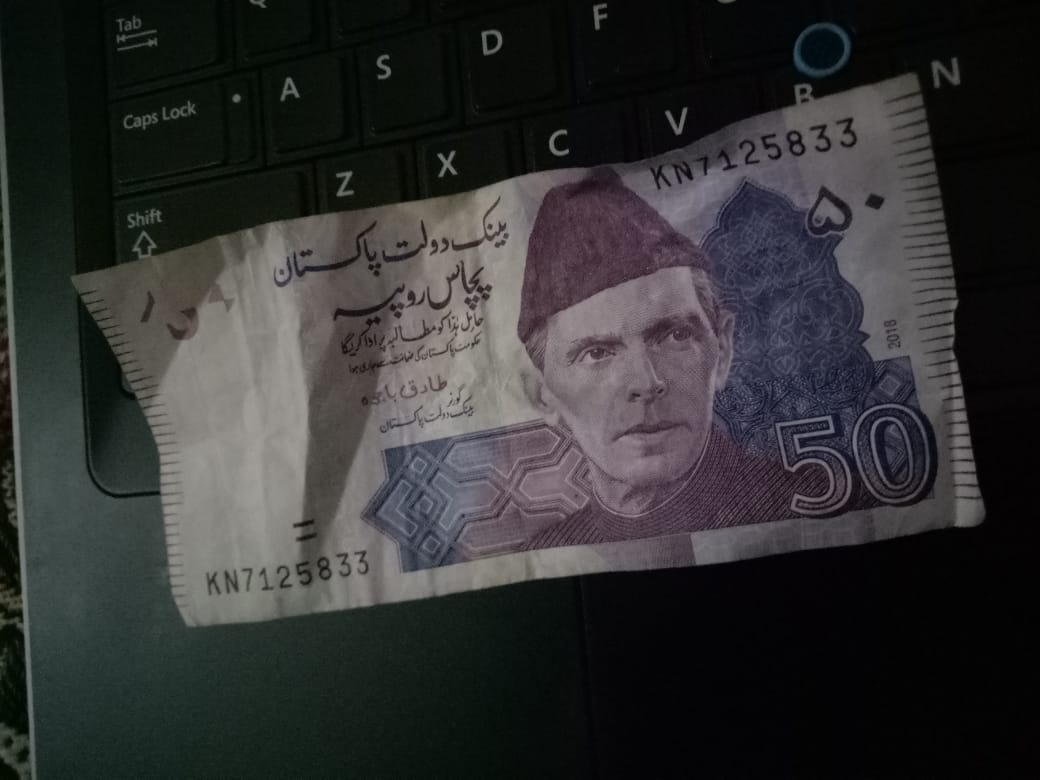50 rupee: (75, 61, 1029, 647)
